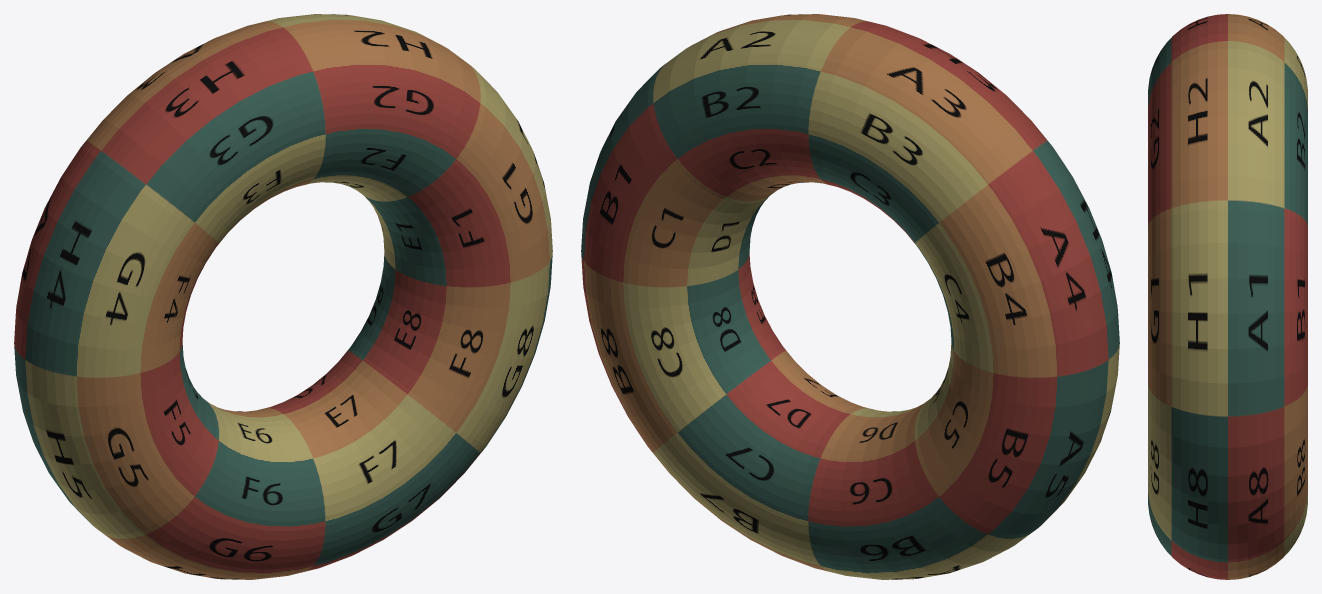
File: texture_torus_R19_r26.glb
3 views of the same model, side by side, from view 1: azimuth 30°, elevation 25°; view 2: azimuth 150°, elevation 25°; view 3: azimuth 270°, elevation 25° (orthographic). The views are drawn at different scales.
Parts seen in each view (by area): view 1: world; view 2: world; view 3: world.
Part boxes in pixels (bbox=[...]): world: bbox=[14, 14, 552, 579]; world: bbox=[581, 14, 1119, 579]; world: bbox=[1148, 14, 1307, 579].
Size of the model in its own units: 31.6 by 31.54 by 8.92.
Materials: 1 (1 with a texture image).
